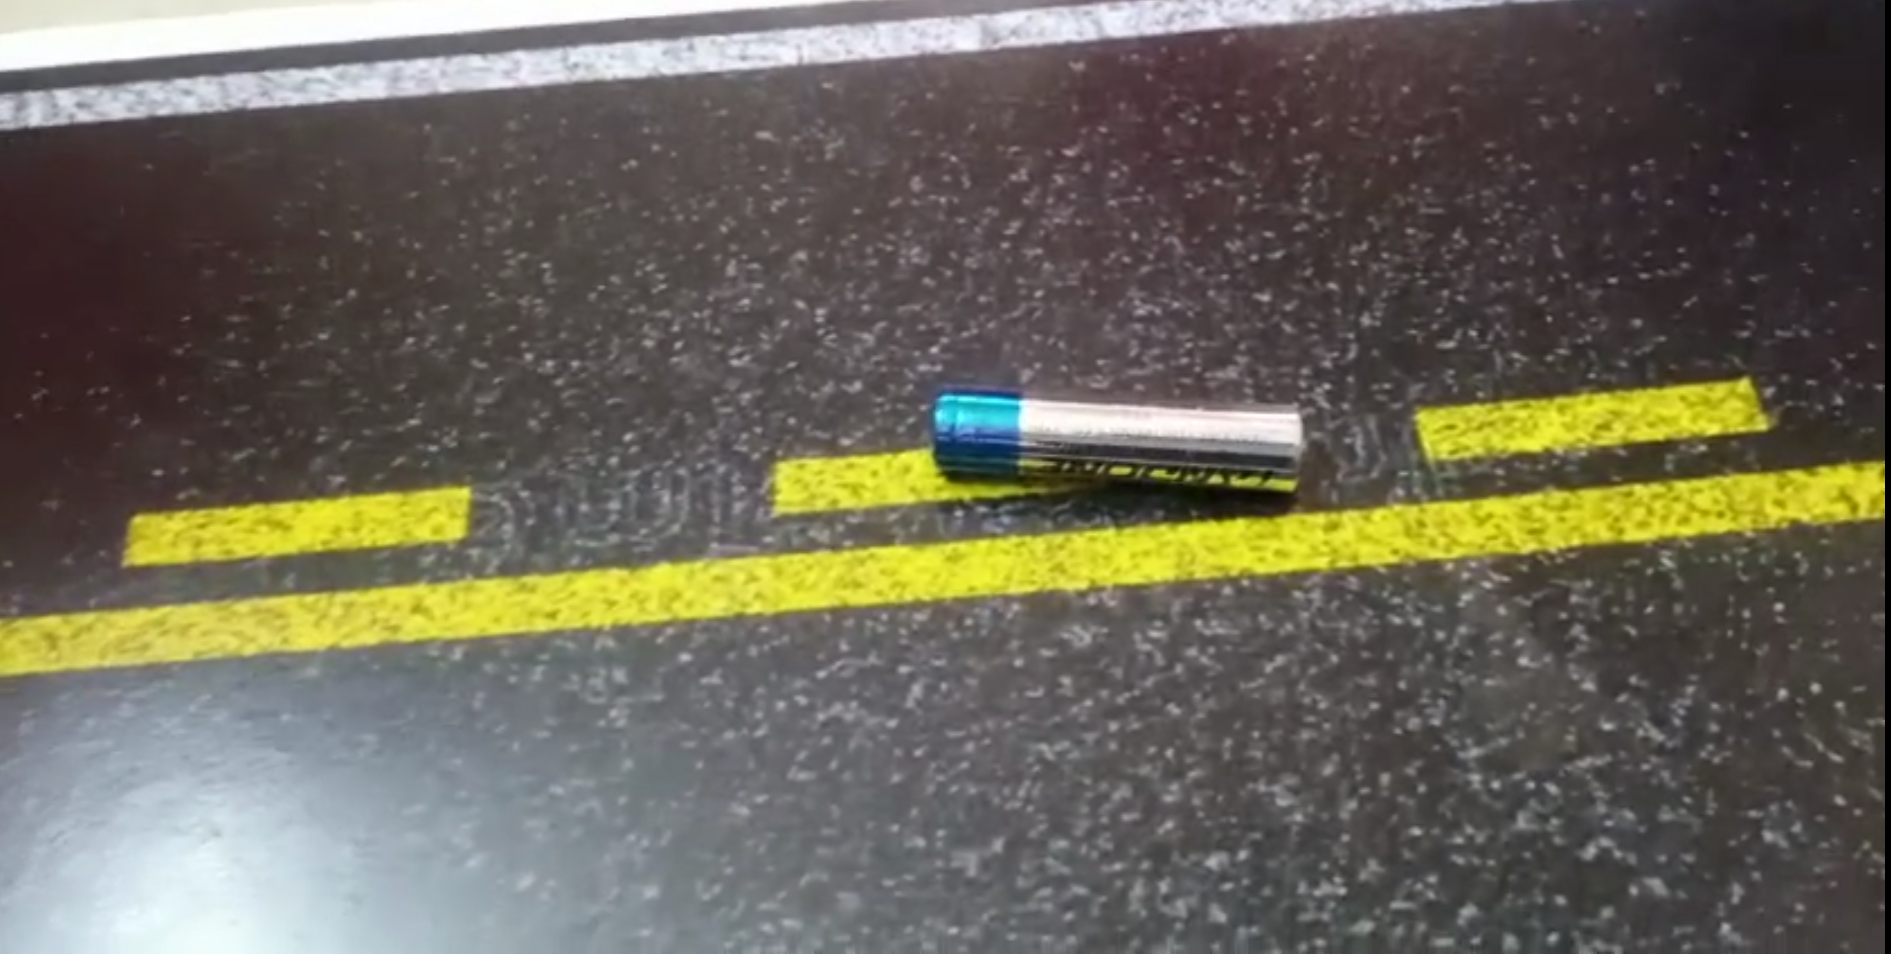metal: (923, 378, 1312, 499)
